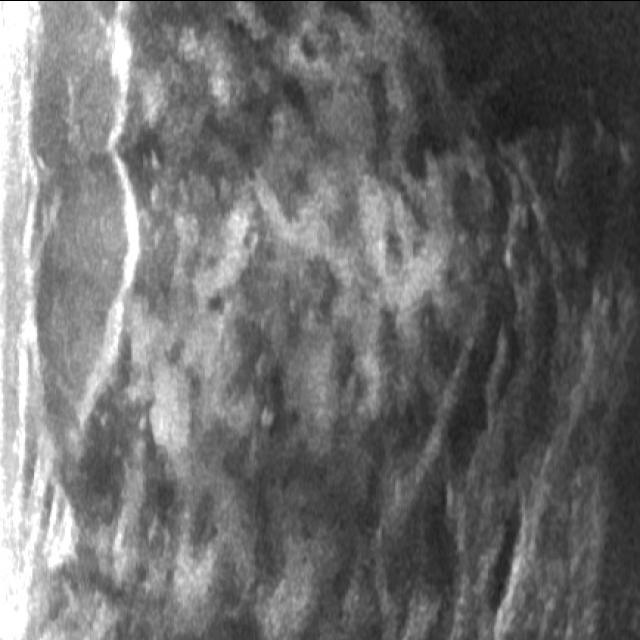Normal: (20, 20, 612, 615)
